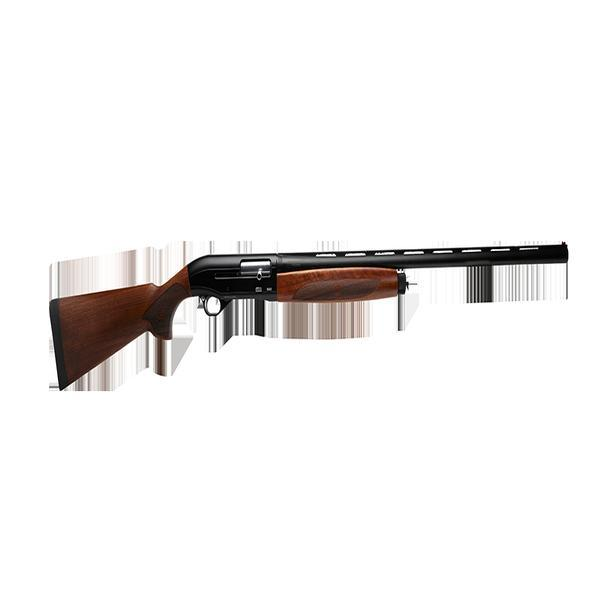Firearm: (36, 238, 572, 396)
